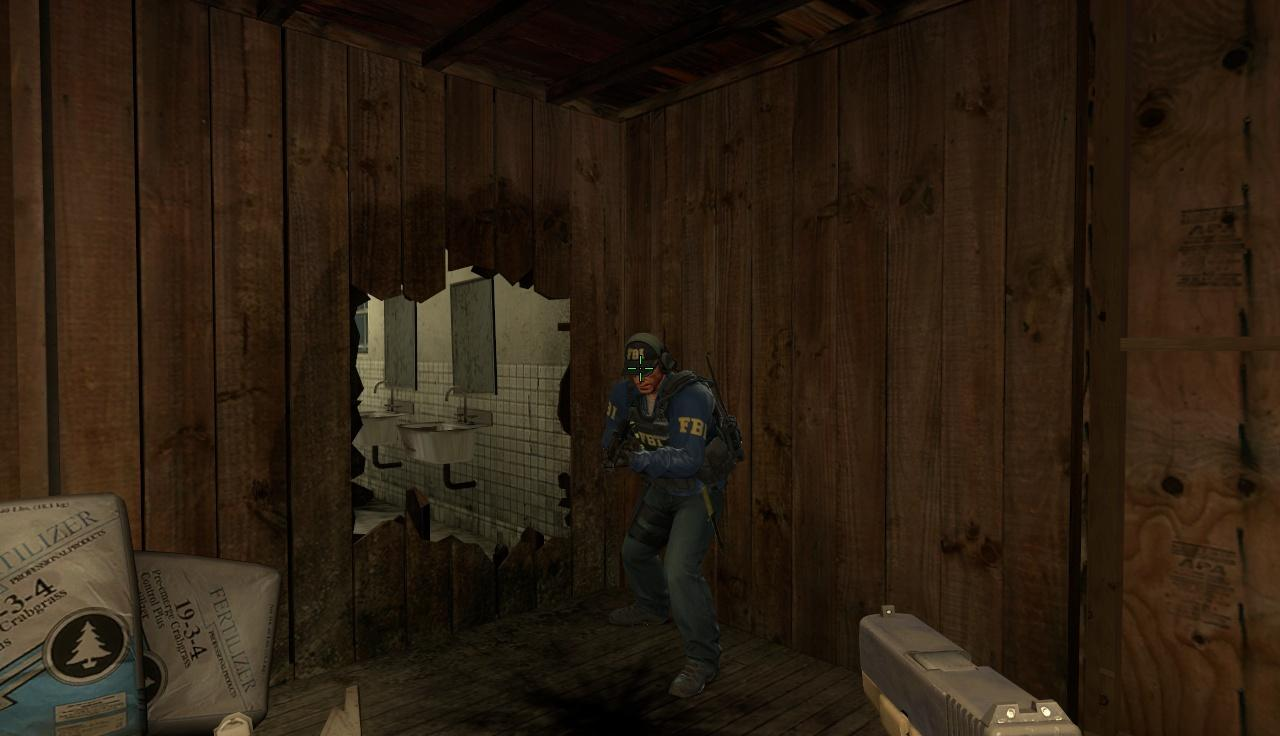ct: (608, 331, 740, 687)
cthead: (624, 334, 668, 395)
pistol: (846, 597, 1143, 736)
